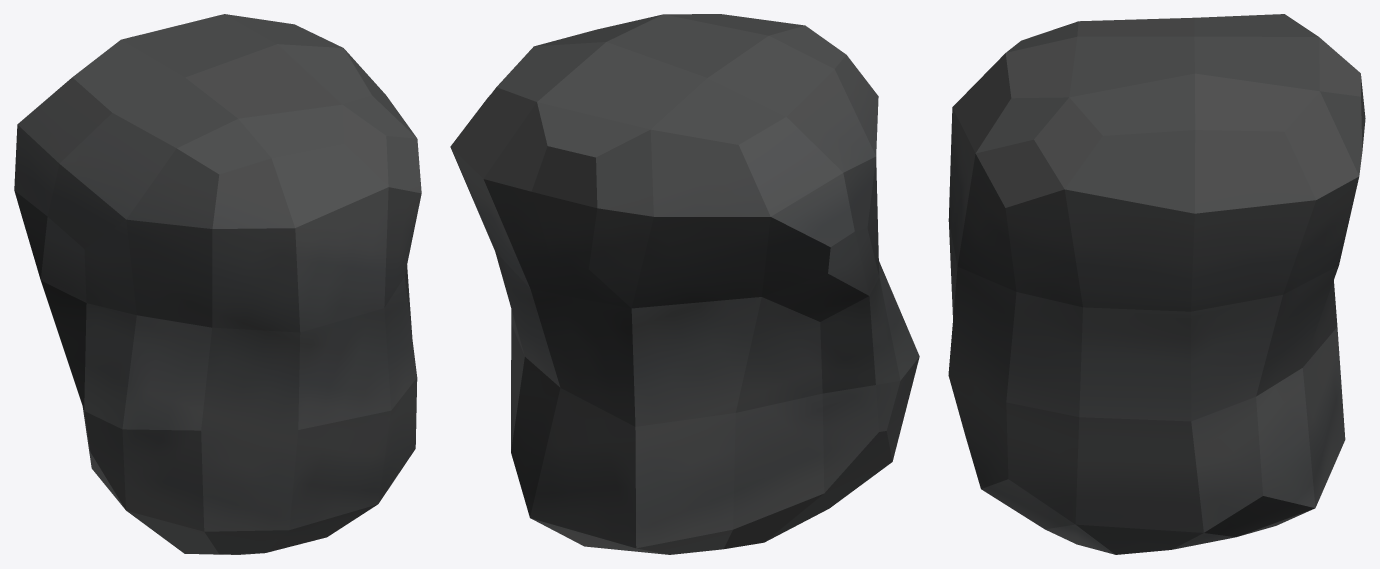
File: Projectile_Rock_3_S.fbx
3 renders of one model, left to right at view 1: azimuth 30°, elevation 25°; view 2: azimuth 150°, elevation 25°; view 3: azimuth 270°, elevation 25°, orthographic. The views are drawn at different scales.
Visible parts, largest first — view 1: rock_3_S; view 2: rock_3_S; view 3: rock_3_S.
Part boxes in pixels (box(x1,y1,x2,y2)): rock_3_S: box(14, 14, 421, 554); rock_3_S: box(450, 14, 919, 554); rock_3_S: box(948, 14, 1365, 554).
Bounding box in the file's own units: 21.17 × 25.99 × 20.53.
